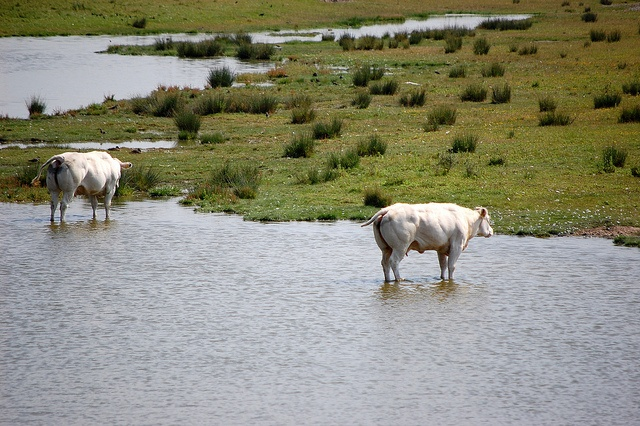cow: (362, 201, 640, 426), (33, 151, 166, 375)
